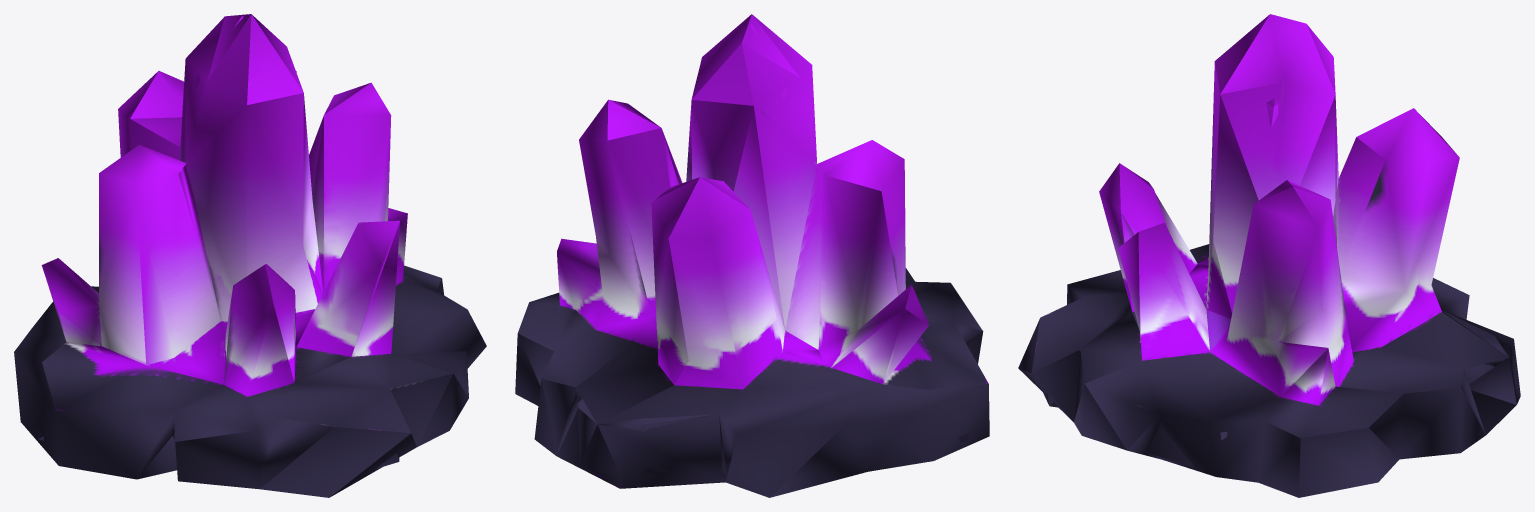
File: crystal-cluster.glb
3 renders of one model, left to right at view 1: azimuth 30°, elevation 25°; view 2: azimuth 150°, elevation 25°; view 3: azimuth 270°, elevation 25°, orthographic.
Visible parts, largest first — view 1: geometry_0; view 2: geometry_0; view 3: geometry_0.
Part boxes in pixels (x1,y1,x2,y2): geometry_0: (14, 14, 486, 497); geometry_0: (515, 14, 989, 497); geometry_0: (1018, 14, 1520, 497).
Size of the model in its own units: 0.9861 by 0.846 by 1.01.
Materials: 1 (1 with a texture image).
